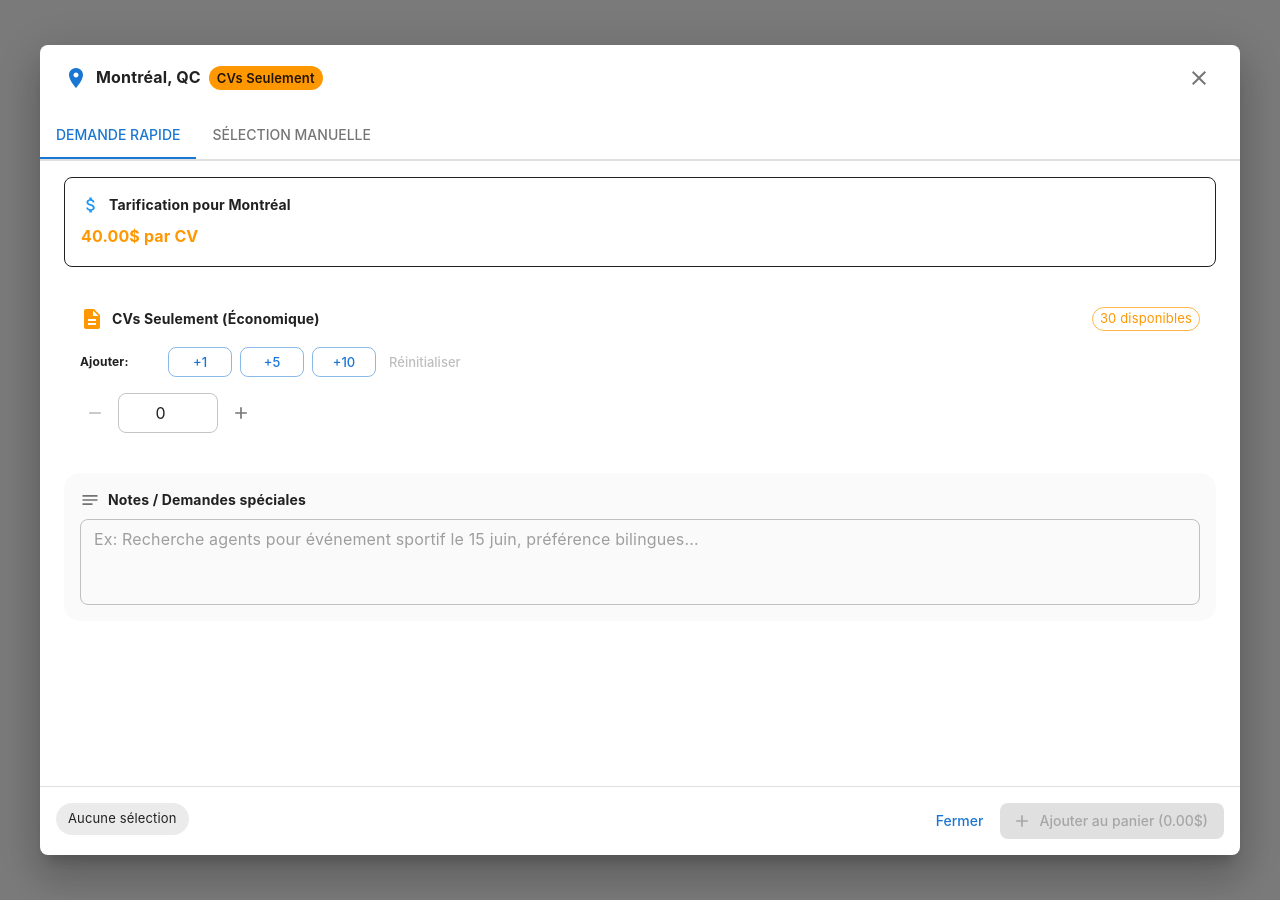
it: CityTalentsModal › affiche une alerte quand le chargement des talents échoue
Step 1. Click the tab "Sélection Manuelle" → (292, 135), box [196,111,387,159]
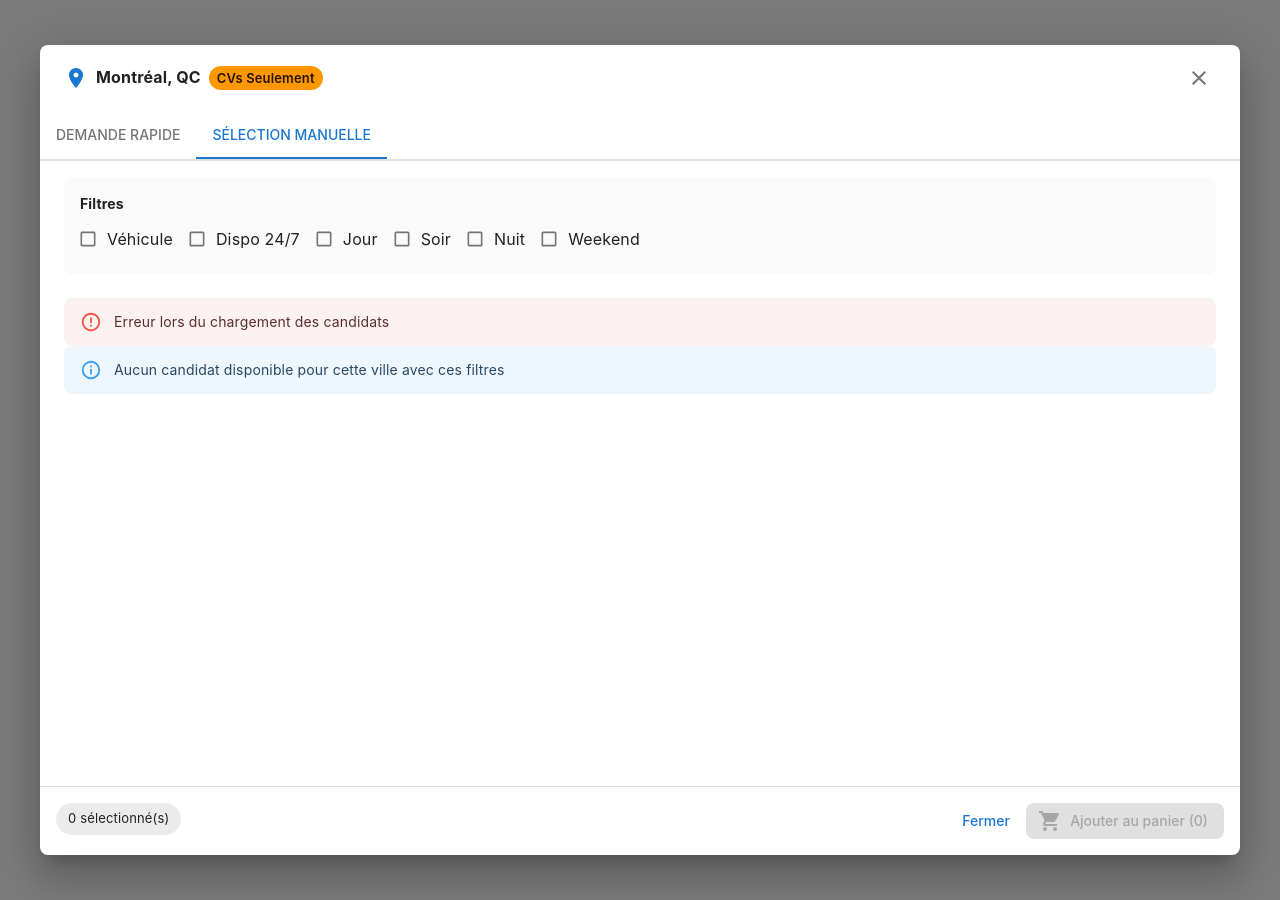
Expected: the text "Erreur lors du chargement des candidats" is shown, [114,313,389,330]
